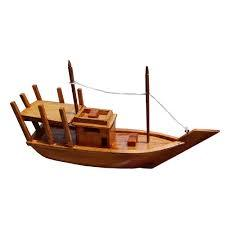fishing boat: (9, 56, 221, 172)
